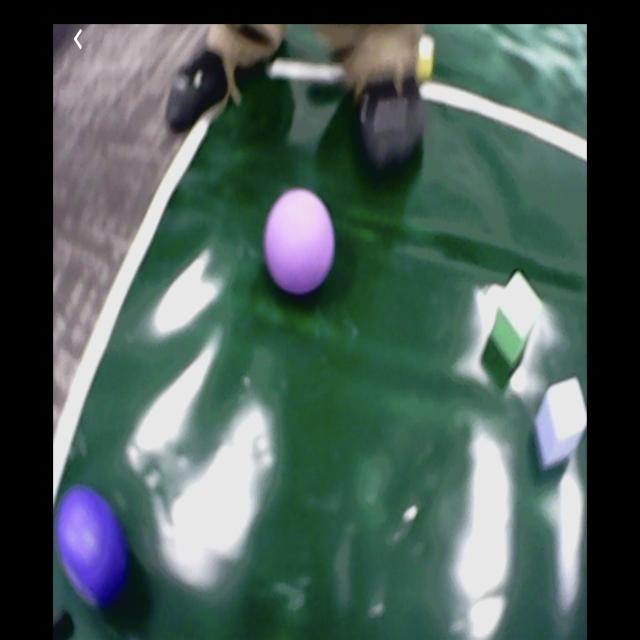ball: (60, 483, 126, 605), (266, 191, 335, 293)
